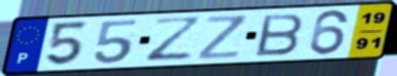5: (92, 17, 141, 65), (45, 19, 92, 68)
6: (308, 9, 350, 57)
B: (253, 12, 306, 57)
Z: (143, 16, 206, 64), (197, 13, 250, 61)
